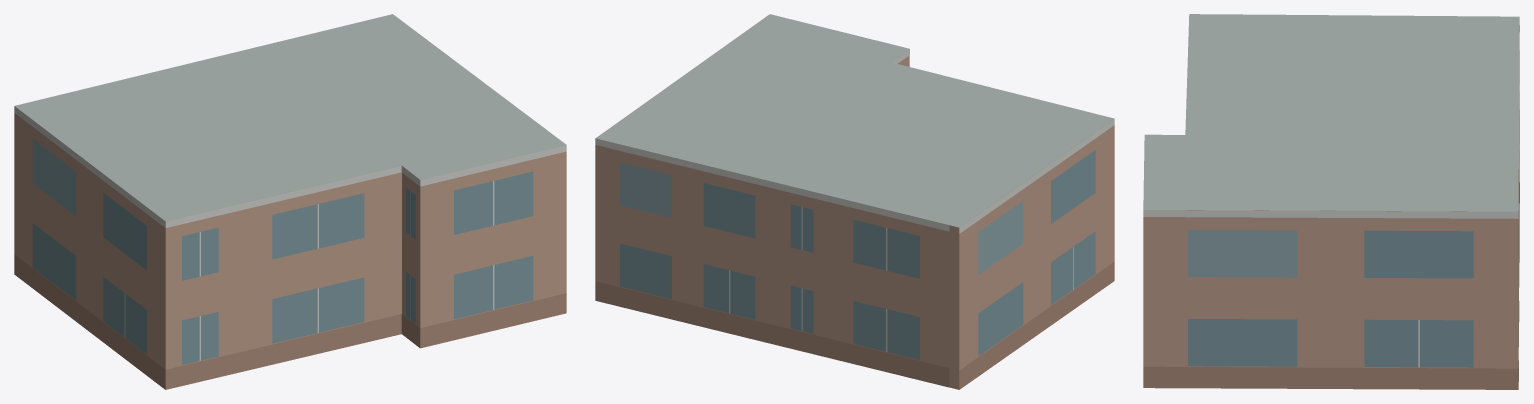
The model's file is survey-upis-32878200.glb.
3 views of the same model, side by side, from view 1: azimuth 30°, elevation 25°; view 2: azimuth 150°, elevation 25°; view 3: azimuth 270°, elevation 25° (orthographic). The views are drawn at different scales.
Visible parts, largest first — view 1: survey-upis-32878200.tmp; view 2: survey-upis-32878200.tmp; view 3: survey-upis-32878200.tmp.
Boxes of the visible parts, bbox=[...] form: survey-upis-32878200.tmp: bbox=[14, 14, 566, 389]; survey-upis-32878200.tmp: bbox=[595, 14, 1114, 389]; survey-upis-32878200.tmp: bbox=[1143, 14, 1519, 389].
Bounding box in the file's own units: 14.53 × 6.1 × 11.69.
